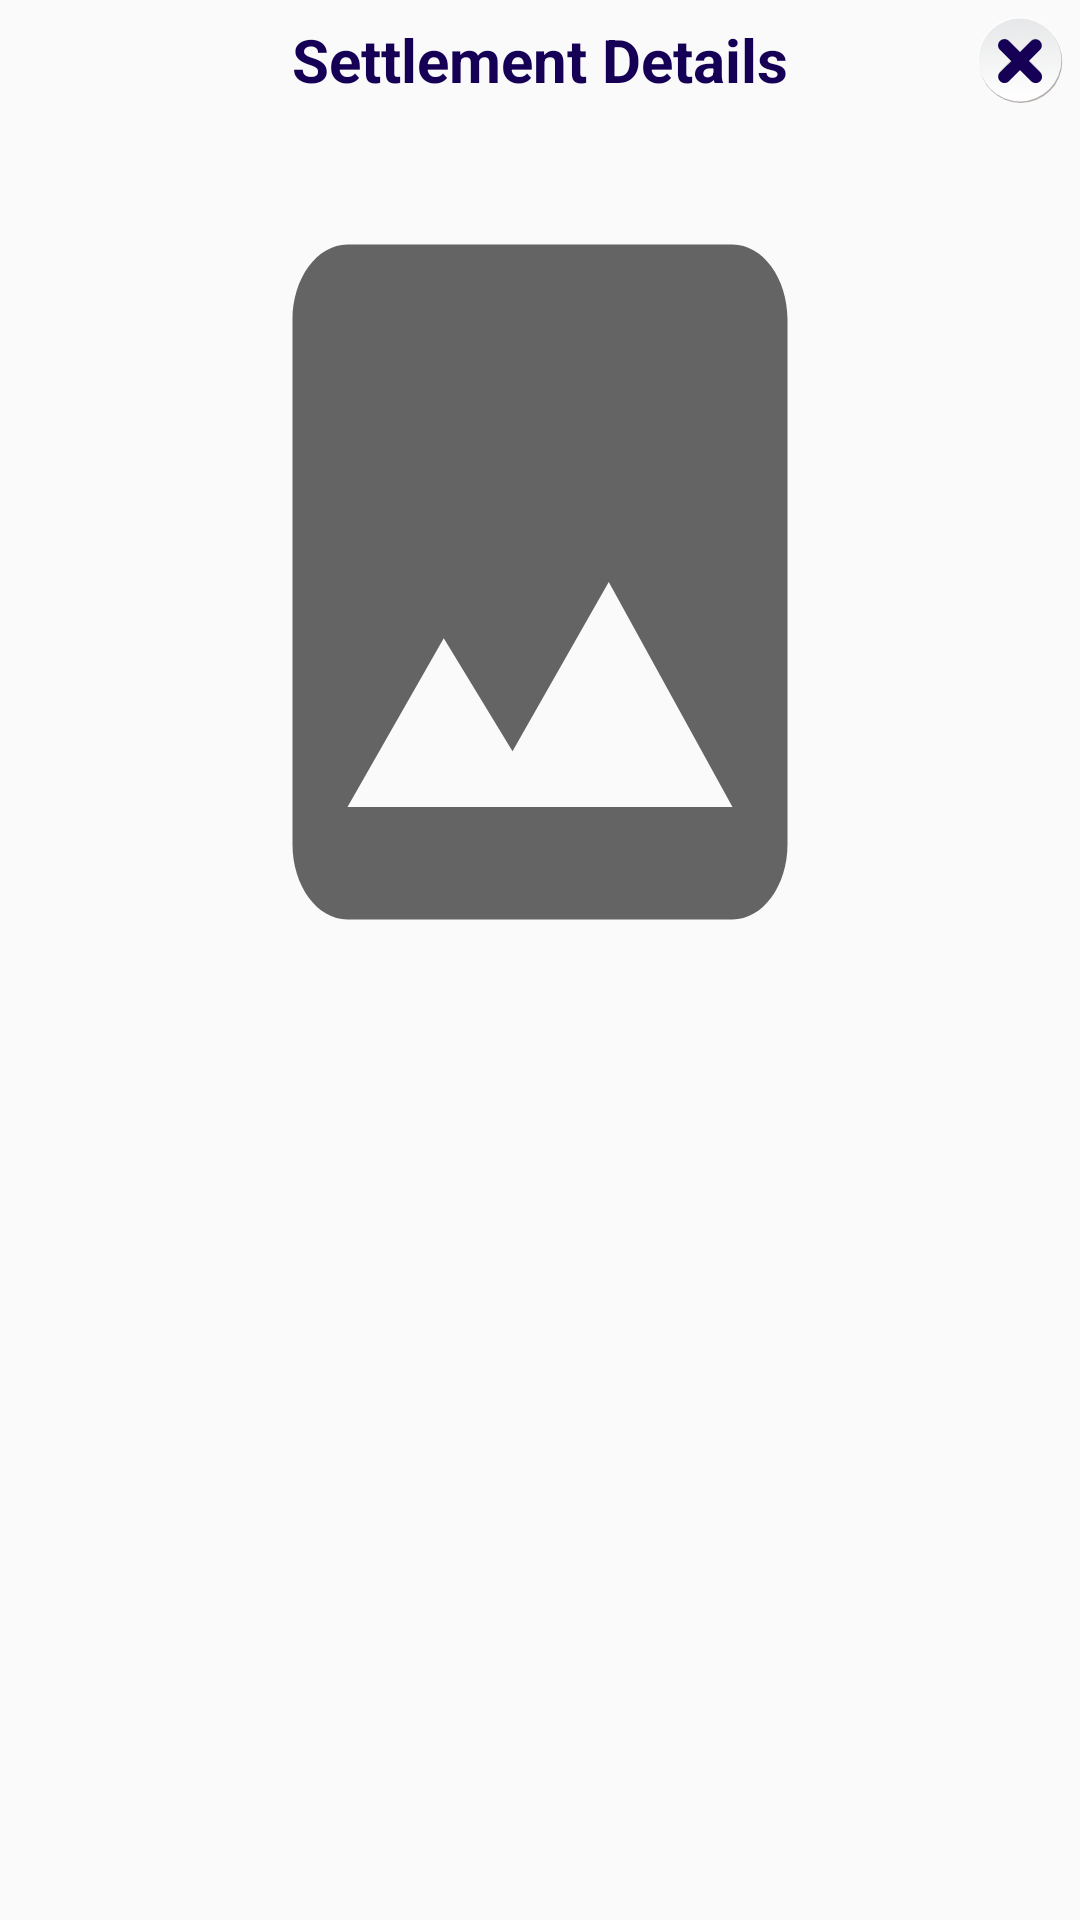

Locate icon controls on the screen. Image size 1080x1920, boxes as (x1, y1, x2, y2).
cancelicon: (982, 39, 1062, 103)
